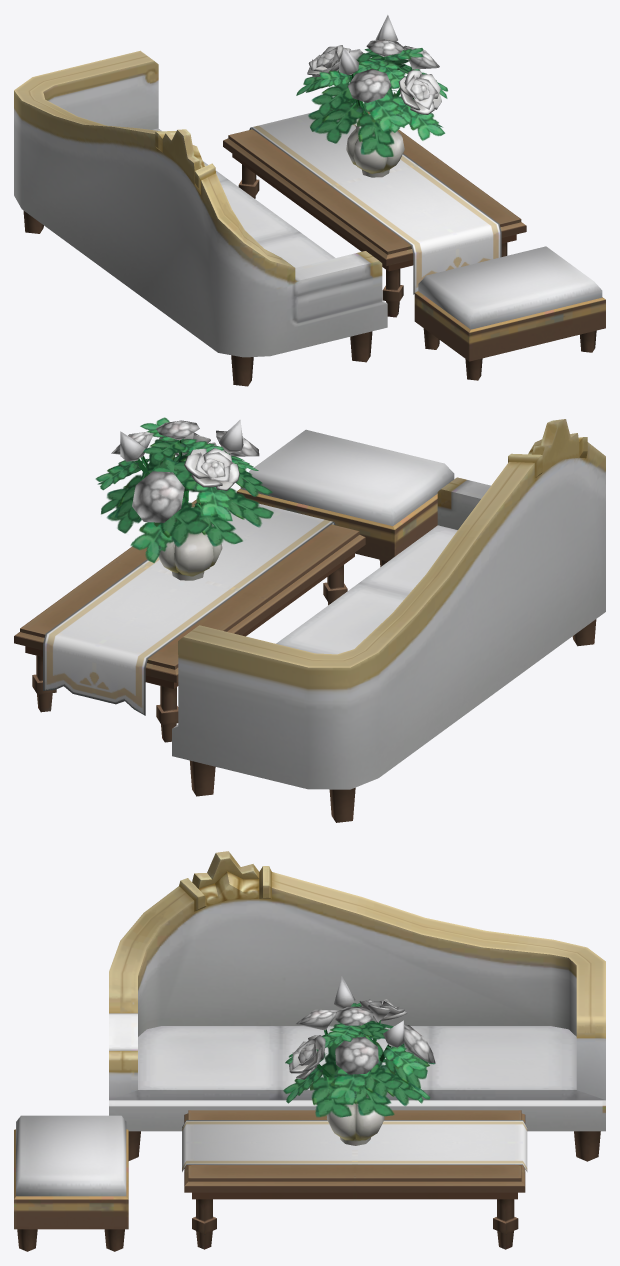
Rendered from my_teaparty_01_sofatable_02.glb.
3 views of the same model, one above another, from view 1: azimuth 30°, elevation 25°; view 2: azimuth 150°, elevation 25°; view 3: azimuth 270°, elevation 25° (orthographic). The views are drawn at different scales.
Parts seen in each view (by area): view 1: my_teaparty_01_sofatable_02; view 2: my_teaparty_01_sofatable_02; view 3: my_teaparty_01_sofatable_02.
Part boxes in pixels (<box>): my_teaparty_01_sofatable_02: <box>14,15,605,386</box>; my_teaparty_01_sofatable_02: <box>14,417,605,822</box>; my_teaparty_01_sofatable_02: <box>14,851,605,1251</box>.
Bounding box in the file's own units: 0.012 × 0.00779 × 0.0176.
2 materials, 2 textured.
